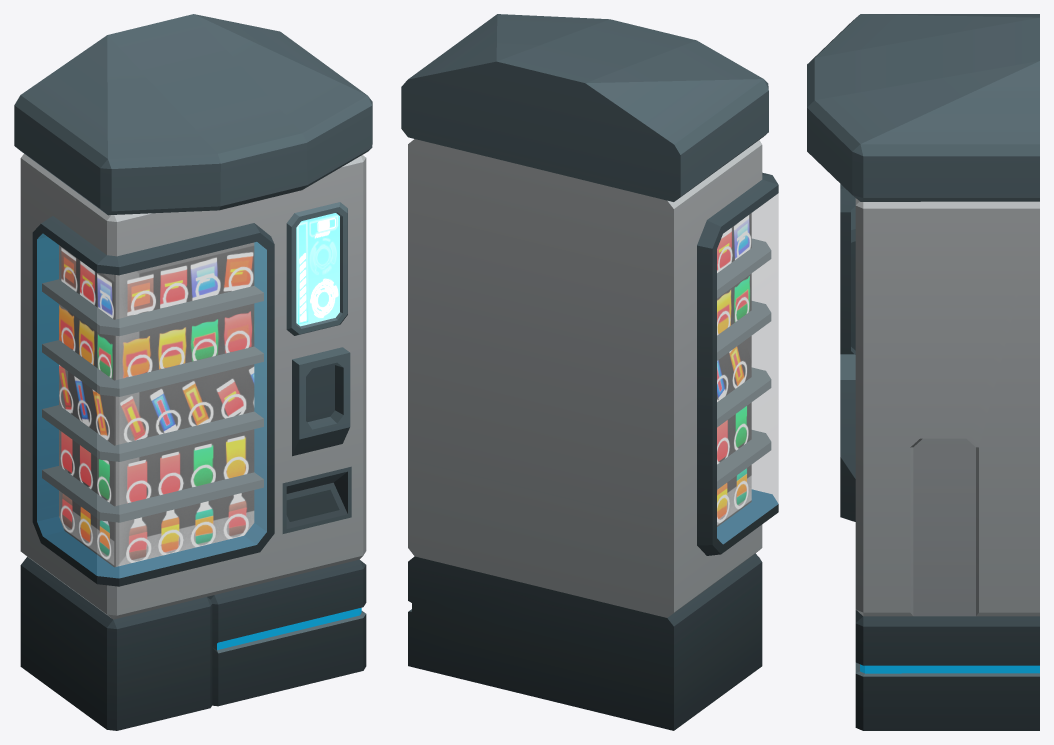
File: Vending_Machine_007.glb
3 views of the same model, side by side, from view 1: azimuth 30°, elevation 25°; view 2: azimuth 150°, elevation 25°; view 3: azimuth 270°, elevation 25° (orthographic). The views are drawn at different scales.
Visible parts, largest first — view 1: Vending_Machine_007; view 2: Vending_Machine_007; view 3: Vending_Machine_007.
Boxes of the visible parts, x1,y1,x2,y2 form: Vending_Machine_007: (14, 14, 372, 730); Vending_Machine_007: (401, 14, 778, 730); Vending_Machine_007: (807, 14, 1039, 730).
Size of the model in its own units: 1.07 by 2.25 by 0.7579.
Materials: 5 (5 with a texture image).
